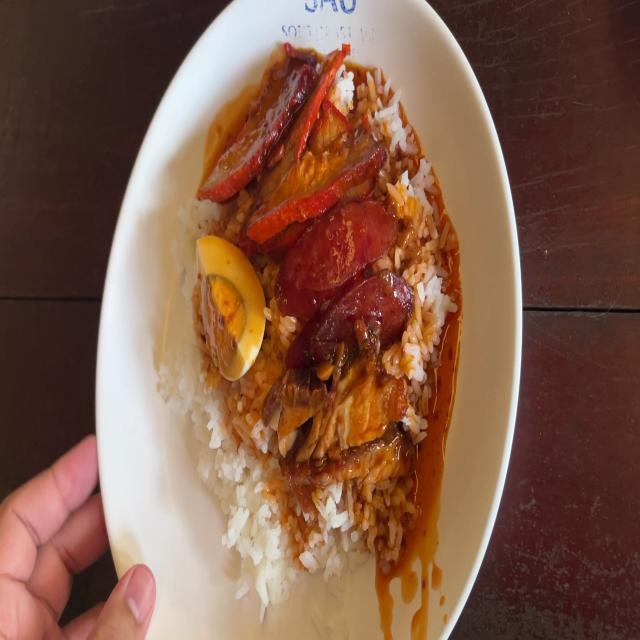red_pork_and_crispy_pork: (194, 389, 278, 579), (191, 236, 267, 384)
stir_fried_basil: (284, 207, 417, 353)
